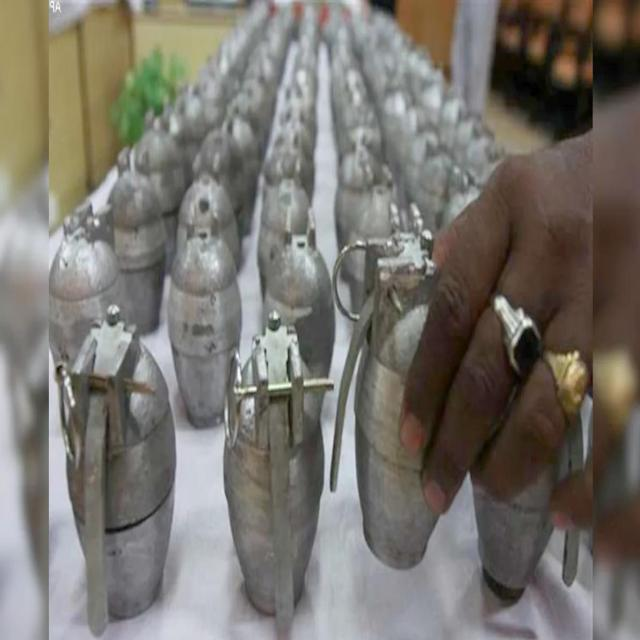grenade: (329, 204, 448, 573), (59, 308, 179, 637), (222, 308, 329, 626), (471, 392, 586, 596), (49, 198, 130, 410), (170, 234, 244, 432), (265, 208, 338, 381), (108, 146, 168, 332), (259, 173, 314, 308), (177, 173, 242, 277), (194, 128, 245, 237)
